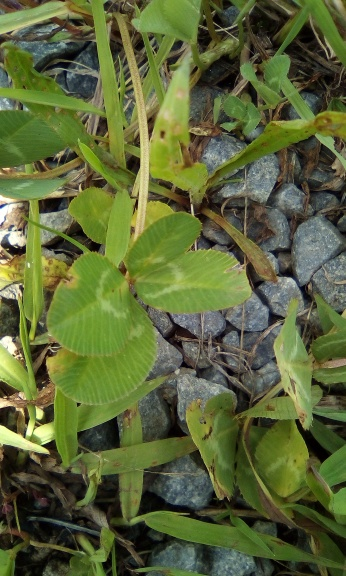4leaf: (45, 211, 252, 408)
